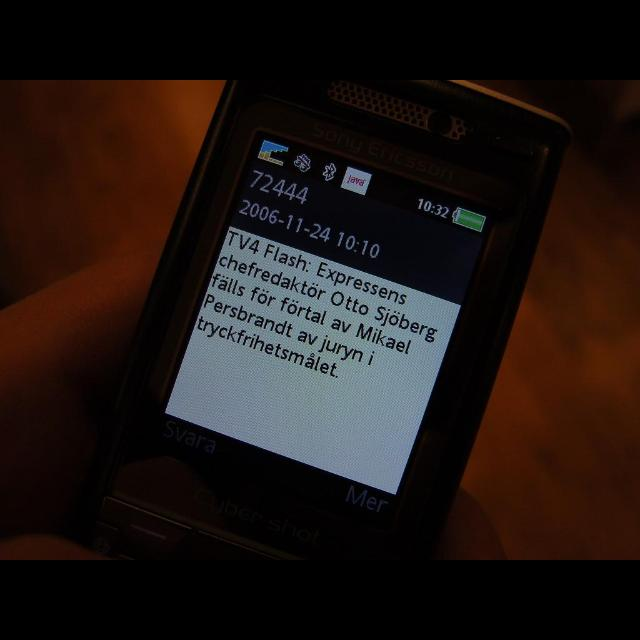Smartphone: (138, 85, 580, 560)
